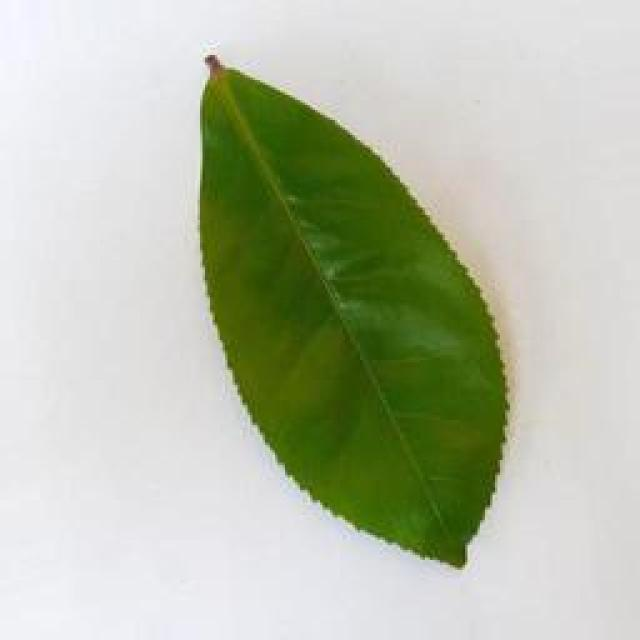Healthy: (191, 48, 524, 580)
